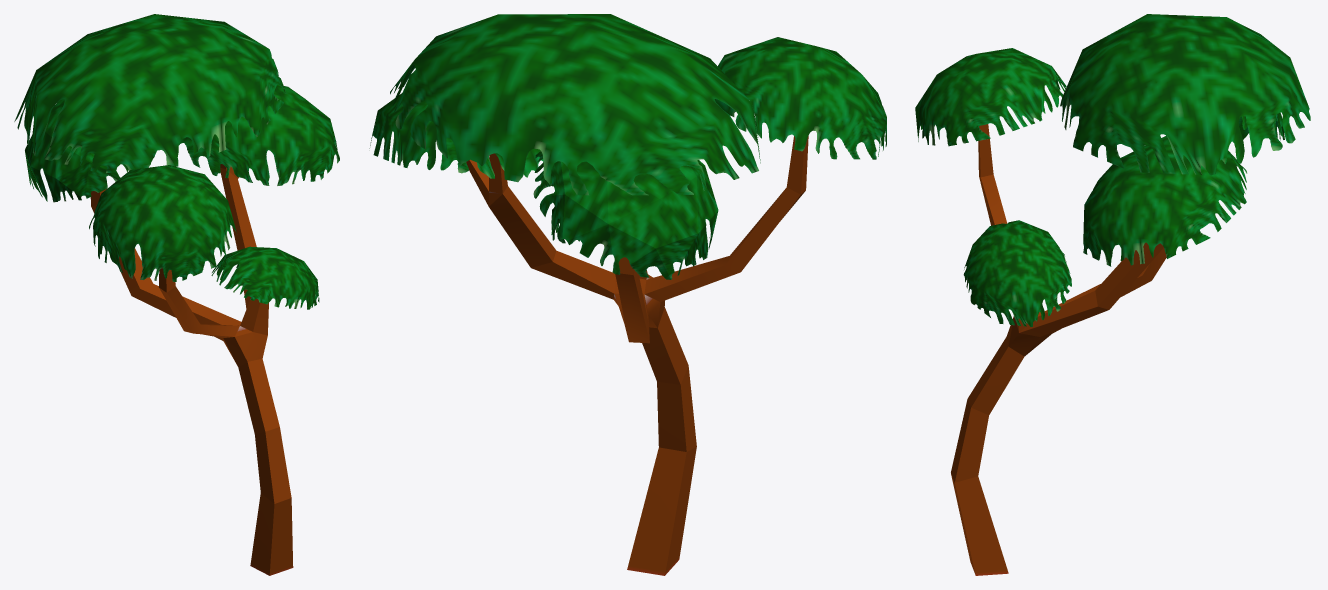
Rendered from SM_Tree_E03.fbx.
3 renders of one model, left to right at view 1: azimuth 30°, elevation 25°; view 2: azimuth 150°, elevation 25°; view 3: azimuth 270°, elevation 25°, orthographic. The views are drawn at different scales.
Parts seen in each view (by area): view 1: SM_Tree_E03; view 2: SM_Tree_E03; view 3: SM_Tree_E03.
Boxes of the visible parts, x1=… form: SM_Tree_E03: x1=14, y1=14, x2=339, y2=575; SM_Tree_E03: x1=369, y1=14, x2=886, y2=575; SM_Tree_E03: x1=915, y1=14, x2=1310, y2=575.
Size of the model in its own units: 252 by 378 by 262.
